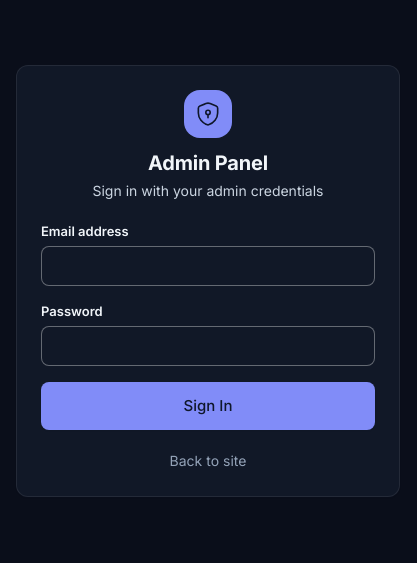
Test: AdminLoginPage › checks admin authorization after student authentication
Type "student@example.invalid" into the field labelled "Email address" at (208, 266), box [41,246,375,286]
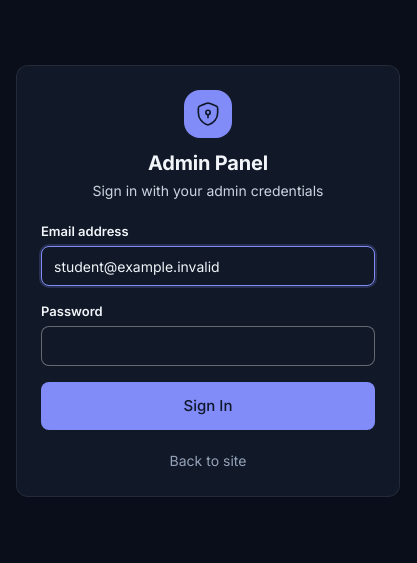
Type "password123" into the password field labelled "Password" at (208, 346), box [41,326,375,366]
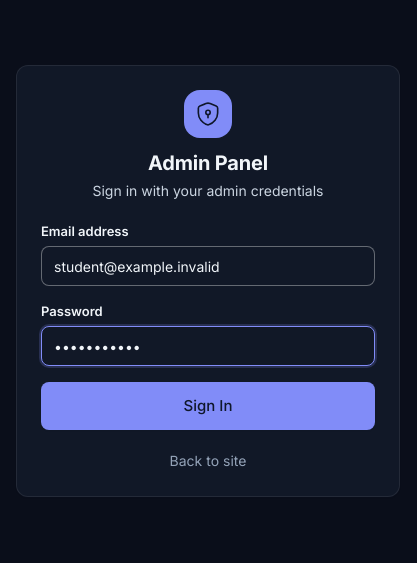
Click the button "Sign In" at (208, 406), box [41,382,375,430]
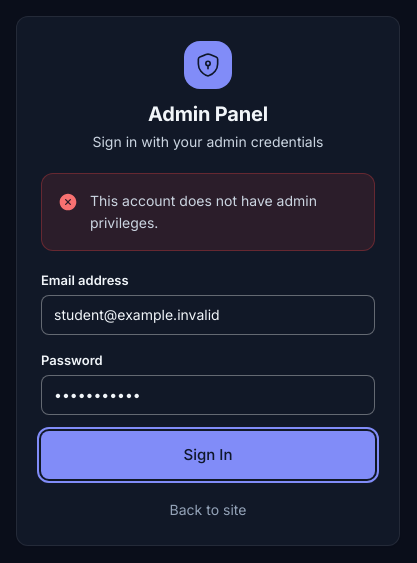
Expected: the text "This account does not have admin privileges." is shown, [90,192,317,231]
